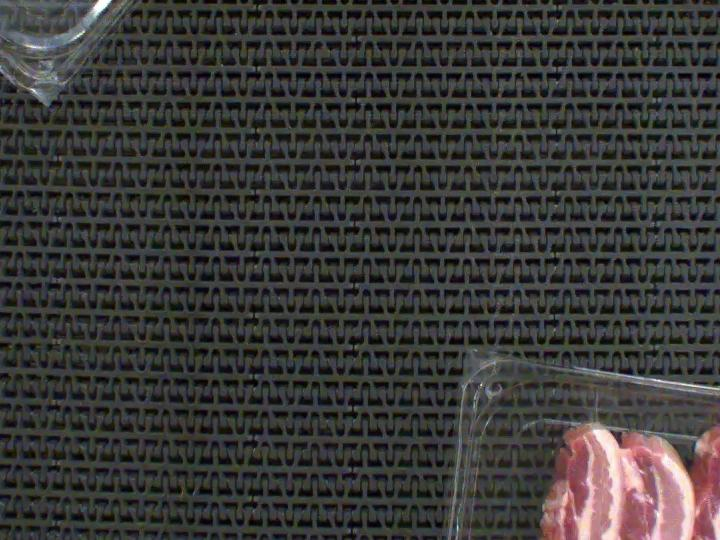packaging-error: (578, 386, 617, 427)
